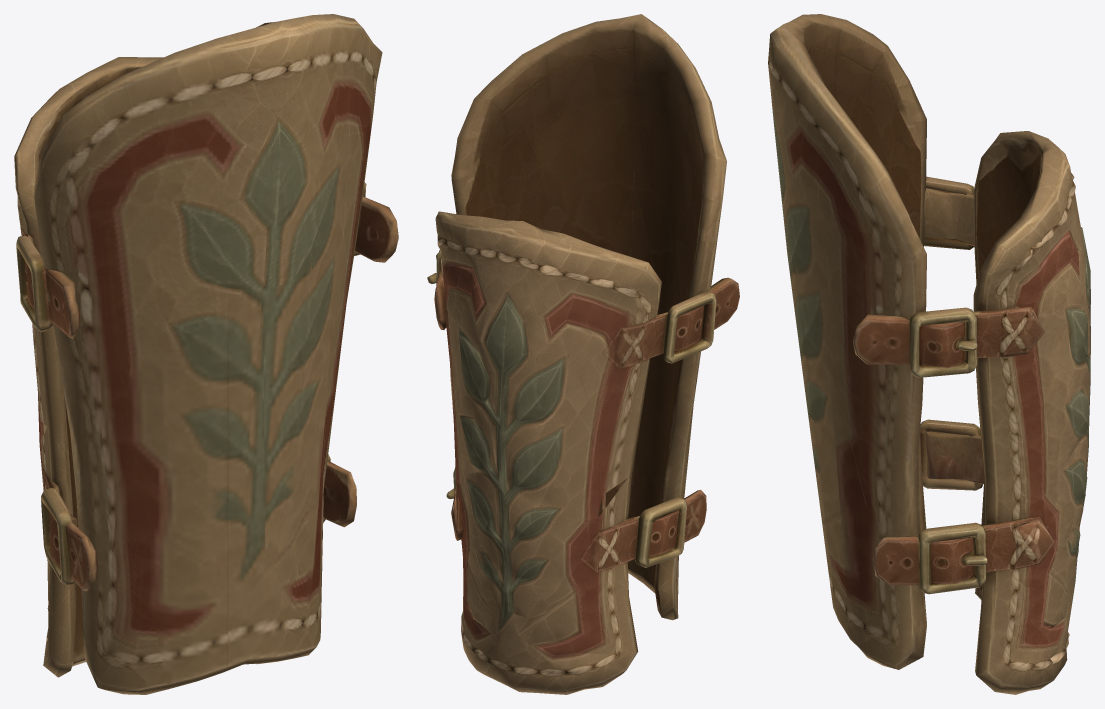
File: leather-bracer-i1_i23d.glb
3 renders of one model, left to right at view 1: azimuth 30°, elevation 25°; view 2: azimuth 150°, elevation 25°; view 3: azimuth 270°, elevation 25°, orthographic. The views are drawn at different scales.
Bounding box in the file's own units: 0.4507 × 0.9521 × 0.4312.
1 material, 1 textured.
